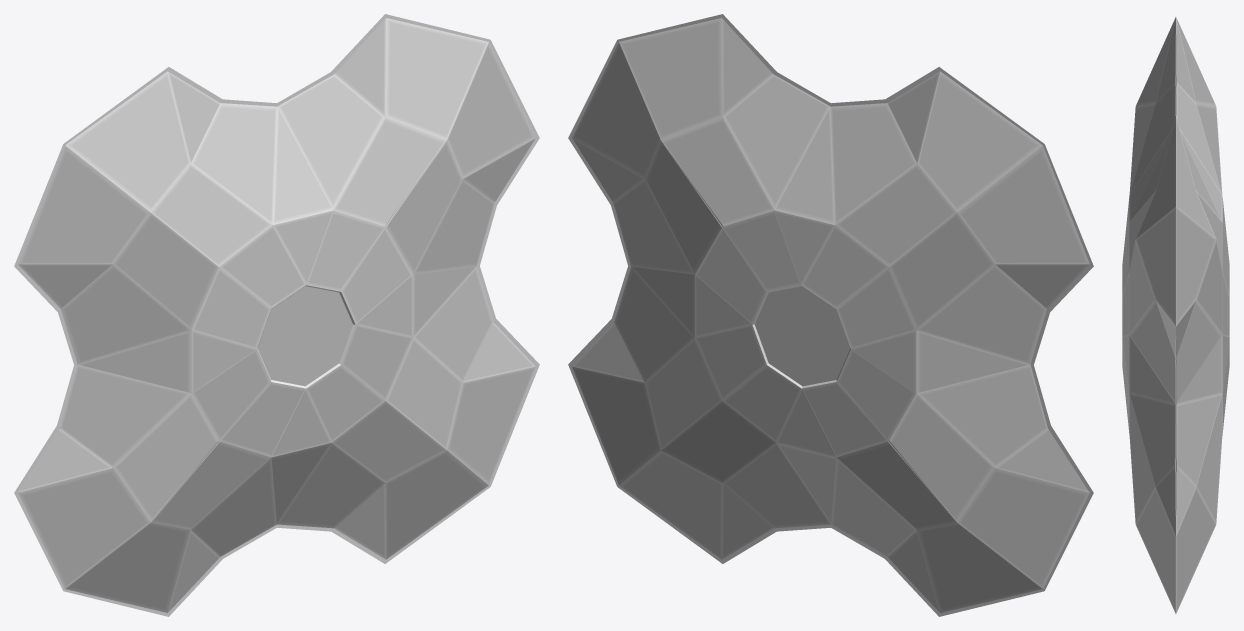
The model's file is Diament3.fbx.
The picture shows the model from 3 angles, left to right: view 1: azimuth 30°, elevation 25°; view 2: azimuth 150°, elevation 25°; view 3: azimuth 270°, elevation 25°; orthographic projection. The views are drawn at different scales.
Visible parts, largest first — view 1: Icosphere; view 2: Icosphere; view 3: Icosphere.
Boxes of the visible parts, box(x1,y1,x2,y2) form: Icosphere: box(14, 14, 539, 616); Icosphere: box(568, 14, 1093, 616); Icosphere: box(1122, 17, 1229, 613).
Size of the model in its own units: 250 by 250 by 48.18.
